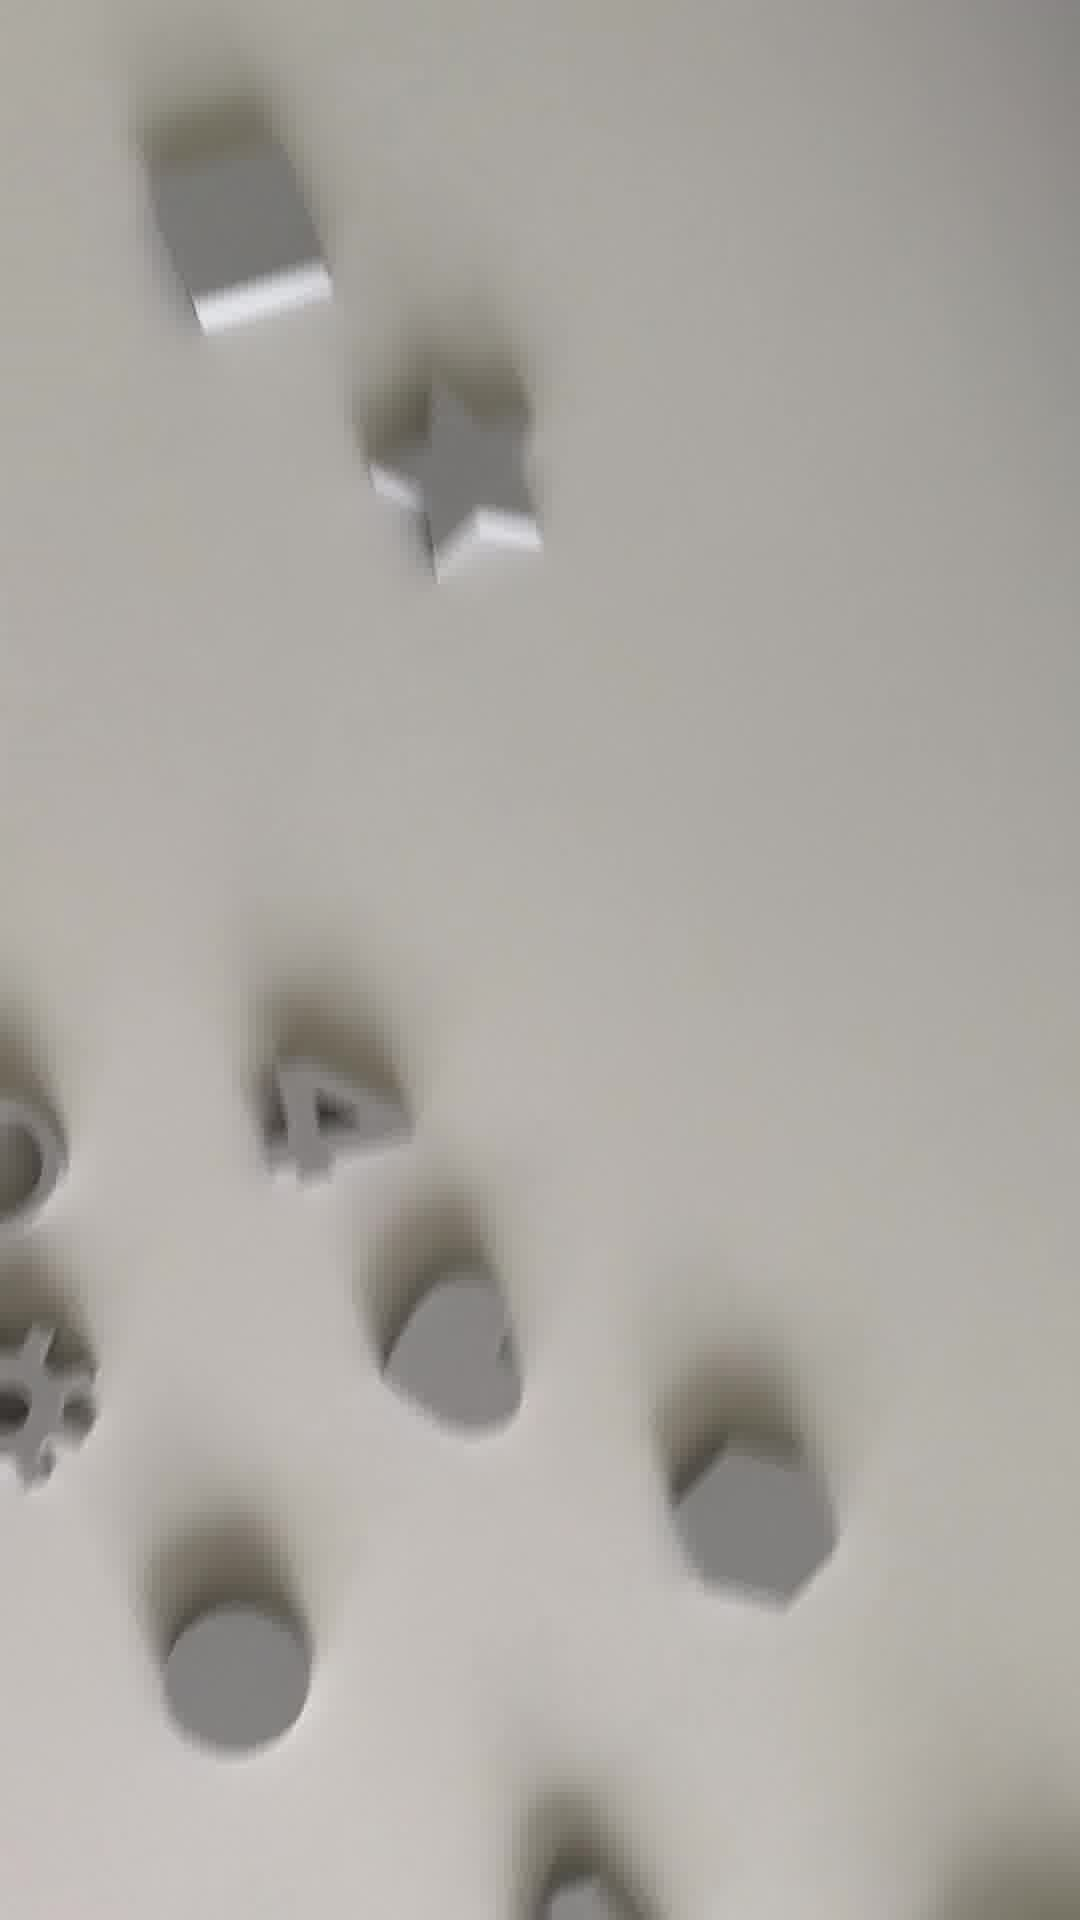Gray circle: (152, 1582, 316, 1768)
Gray four: (253, 1042, 418, 1183)
Gray gear: (1, 1328, 108, 1510)
Gray heart: (367, 1244, 530, 1447)
Gray hexagon: (675, 1447, 845, 1615)
Gray ring: (1, 1091, 75, 1250)
Gray square: (146, 135, 335, 338)
Gray star: (378, 367, 543, 578)
